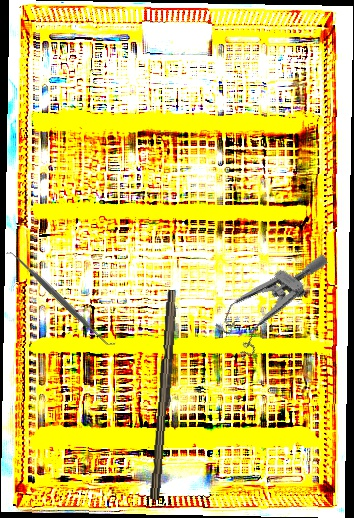Scalpel Handle: (149, 289, 181, 501)
Spatula Surgical: (4, 244, 117, 354)
Speculum: (206, 226, 331, 370)
